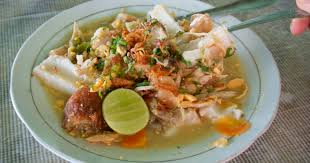soto: (28, 7, 271, 148)
